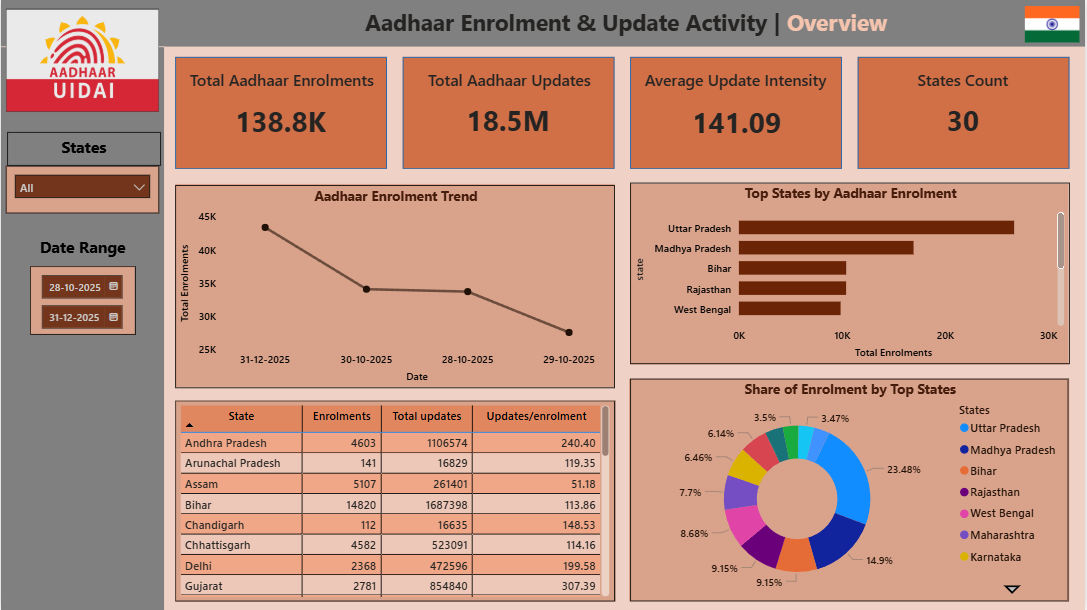

Layout of this report page (visuals, bound fields, positions):
{"tool":"powerbi","page":{"name":"Overview","canvas":[1280,720],"ordinal":0},"visuals":[{"type":"shape","box":[206.2,217.5,518.8,240],"z":0},{"type":"shape","box":[206.2,67.5,250,132.5],"z":1000},{"type":"shape","box":[0,0,1280,55],"z":2000},{"type":"shape","box":[0,55,192.5,665],"z":3000},{"type":"image","box":[6.2,10,181.2,122.5],"z":4000},{"type":"textbox","box":[418.8,2.5,638.8,51.2],"z":5000},{"type":"cardVisual","fields":{"Data":["enrolment_verified.Total Enrolments"]},"box":[247.5,107.5,166.2,68.8],"z":6000},{"type":"shape","box":[474.6,67.5,250,132.5],"z":7000},{"type":"shape","box":[742.9,67.5,250,132.5],"z":8000},{"type":"shape","box":[1011.2,67.5,250,132.5],"z":9000},{"type":"textbox","box":[211.2,77.5,240,56.2],"z":10000},{"type":"textbox","box":[480,77.5,240,56.2],"z":11000},{"type":"cardVisual","fields":{"Data":["final_state_summary.Total Updates"]},"box":[516.2,106.2,166.2,68.8],"z":12000},{"type":"cardVisual","fields":{"Data":["final_state_summary.Avg Update Intensity"]},"box":[785,108.8,166.2,68.8],"z":13000},{"type":"textbox","box":[747.5,77.5,240,56.2],"z":14000},{"type":"textbox","box":[1016.2,77.5,240,55],"z":15000},{"type":"cardVisual","fields":{"Data":["final_state_summary.States Count"]},"box":[1052.5,106.2,166.2,68.8],"z":16000},{"type":"lineChart","title":"Aadhaar Enrolment Trend","fields":{"Y":["enrolment_verified.Total Enrolments"],"Category":["enrolment_verified.Date Label"]},"box":[206,218,519,240],"z":17000},{"type":"shape","box":[742.5,216.8,517.7,213.3],"z":18000},{"type":"barChart","title":"Top States by Aadhaar Enrolment","fields":{"Category":["enrolment_verified.state"],"Y":["enrolment_verified.Total Enrolments"]},"box":[742.5,216.2,518.8,213.8],"z":19000},{"type":"shape","box":[741.2,447.5,520,262.5],"z":20000},{"type":"shape","box":[205,472.5,520,237.5],"z":21000},{"type":"donutChart","title":"Share of Enrolment by Top States","fields":{"Category":["enrolment_verified.state"],"Y":["enrolment_verified.Total Enrolments"]},"box":[742.5,447.5,517.5,262.5],"z":22000},{"type":"tableEx","fields":{"Values":["final_state_summary.state","final_state_summary.enrolments","final_state_summary.total_updates","final_state_summary.updates_per_enrolment"]},"box":[205,472.5,518.8,237.5],"z":23000},{"type":"shape","box":[6.2,195,181.2,56.2],"z":24000},{"type":"slicer","fields":{"Values":["final_state_summary.state"]},"box":[6.3,195.3,181.1,56.3],"z":25000},{"type":"shape","box":[33.8,313.8,123.8,81.2],"z":26000},{"type":"textbox","box":[7.5,155,181.2,40],"z":27000},{"type":"textbox","box":[6.2,273.8,181.2,40],"z":28000},{"type":"slicer","fields":{"Values":["enrolment_verified.date"]},"box":[33.8,313.8,125,81.2],"z":29000},{"type":"image","box":[1206.7,6.7,67.5,43.3],"z":30000}]}

Visuals, with their boxes in screenshot pixels (x1, y1, x2, y2), scaled from the page's 1280x720 canvas onto the 1087x610 screenshot:
shape: 175/184/616/388
shape: 175/57/387/169
shape: 0/0/1086/47
shape: 0/47/163/609
image: 5/8/159/112
textbox: 356/2/898/45
cardVisual - enrolment_verified.Total Enrolments: 210/91/351/149
shape: 403/57/615/169
shape: 631/57/843/169
shape: 859/57/1071/169
textbox: 179/66/383/113
textbox: 408/66/611/113
cardVisual - final_state_summary.Total Updates: 438/90/580/148
cardVisual - final_state_summary.Avg Update Intensity: 667/92/808/150
textbox: 635/66/839/113
textbox: 863/66/1067/112
cardVisual - final_state_summary.States Count: 894/90/1035/148
"Aadhaar Enrolment Trend" lineChart: 175/185/616/388
shape: 631/184/1070/364
"Top States by Aadhaar Enrolment" barChart: 631/183/1071/364
shape: 629/379/1071/602
shape: 174/400/616/602
"Share of Enrolment by Top States" donutChart: 631/379/1070/602
tableEx - final_state_summary.state x final_state_summary.enrolments: 174/400/615/602
shape: 5/165/159/213
slicer - final_state_summary.state: 5/165/159/213
shape: 29/266/134/335
textbox: 6/131/160/165
textbox: 5/232/159/266
slicer - enrolment_verified.date: 29/266/135/335
image: 1025/6/1082/42
